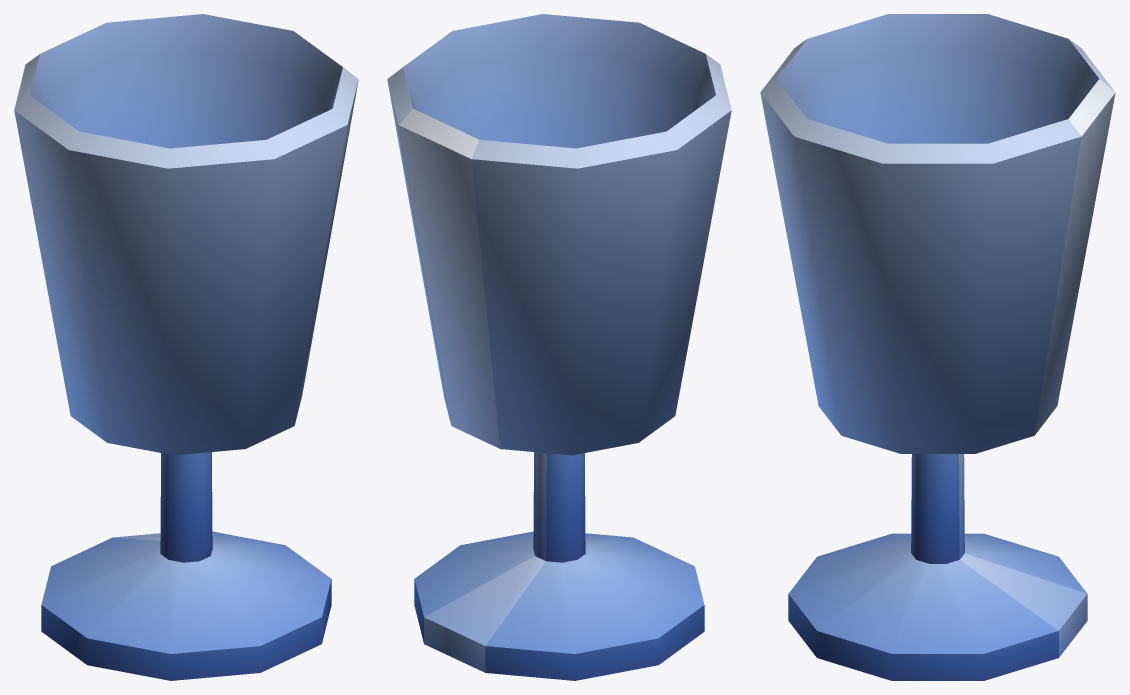
File: m_Glass08.fbx
3 views of the same model, side by side, from view 1: azimuth 30°, elevation 25°; view 2: azimuth 150°, elevation 25°; view 3: azimuth 270°, elevation 25° (orthographic).
Parts seen in each view (by area): view 1: m_Glass08; view 2: m_Glass08; view 3: m_Glass08.
Part boxes in pixels (bbox=[...]): m_Glass08: bbox=[14, 14, 358, 680]; m_Glass08: bbox=[387, 14, 731, 680]; m_Glass08: bbox=[760, 14, 1115, 680].
Size of the model in its own units: 11.3 by 20 by 11.88.
